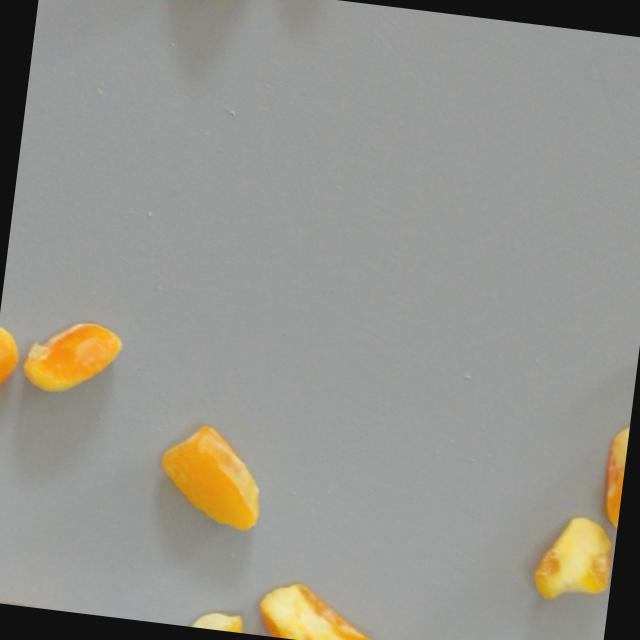estandar: (250, 571, 397, 640), (523, 505, 618, 609), (591, 415, 630, 537)
pelicula: (145, 413, 275, 543), (17, 310, 130, 410), (155, 601, 274, 636), (0, 312, 31, 424), (0, 581, 77, 612)
